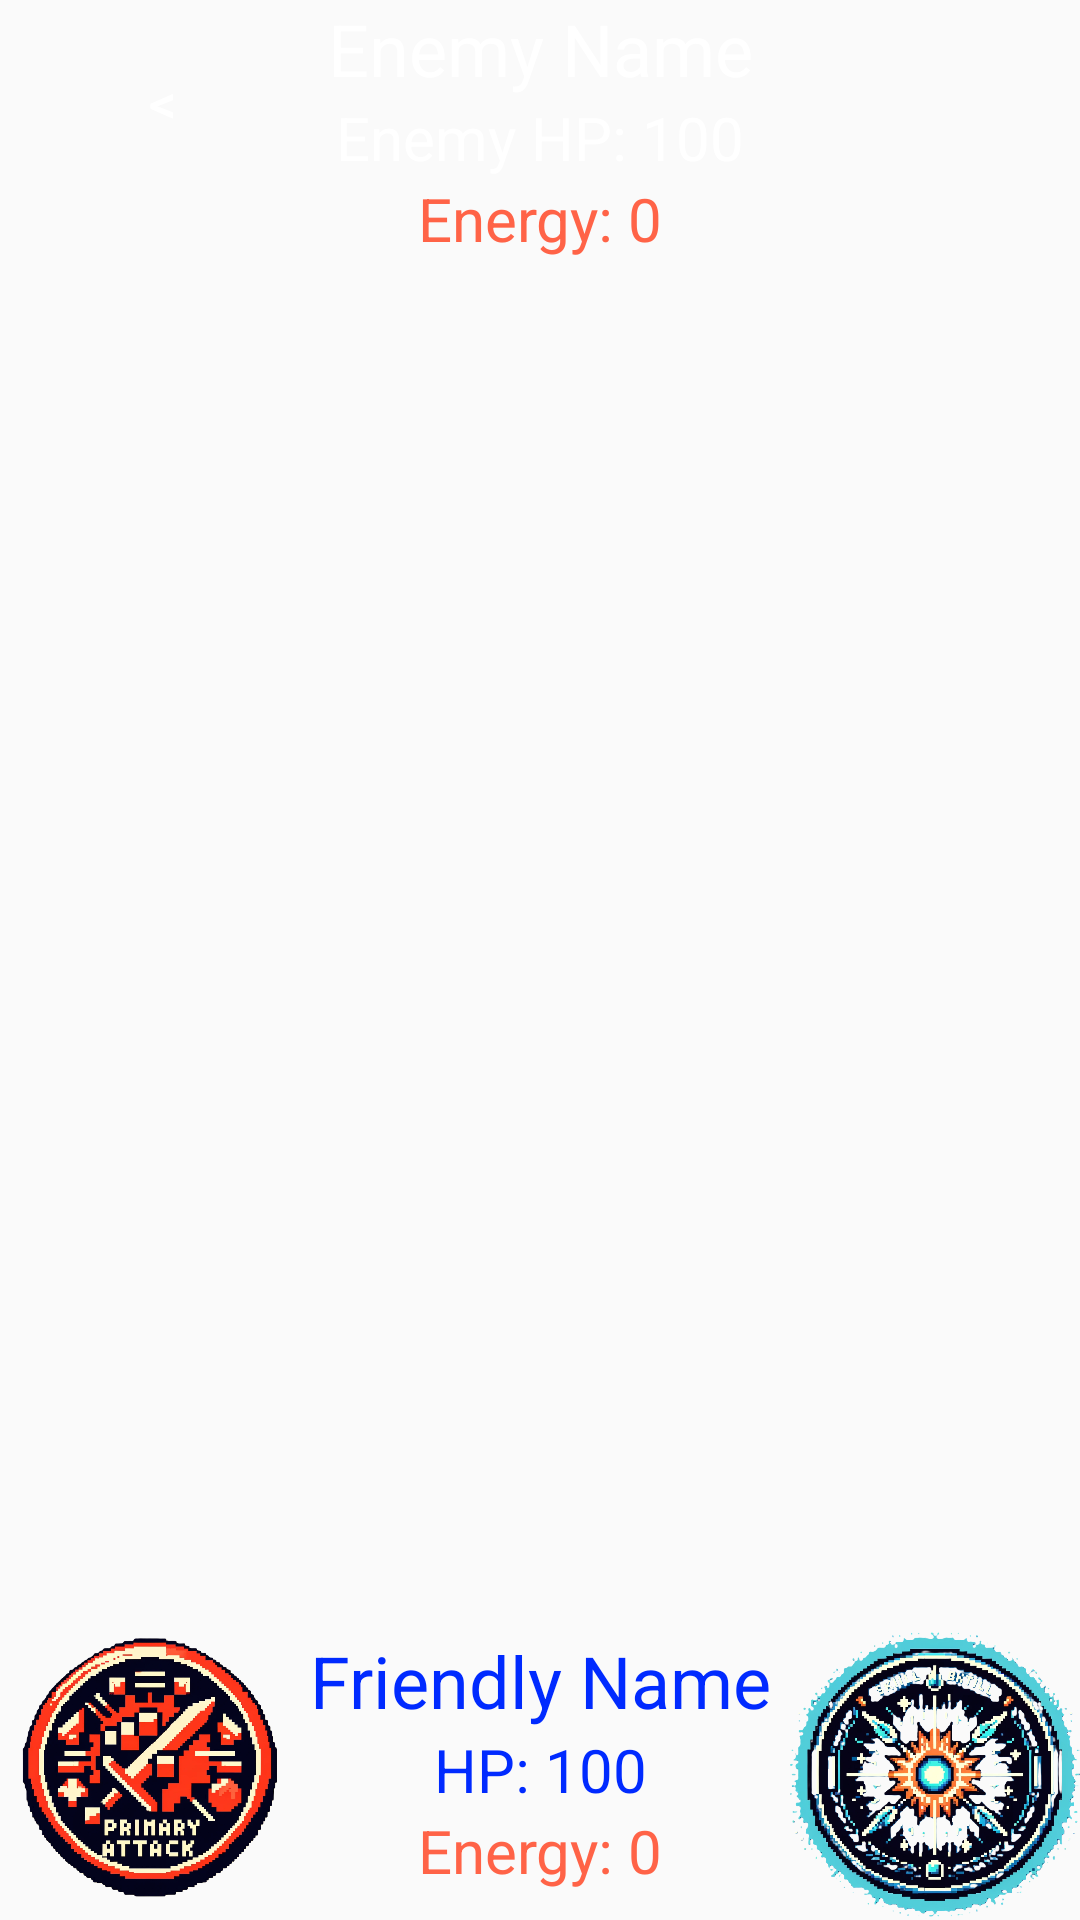

Where icons sit on this 1080×1920 app screen, as [x1=x1, y1=y1, x2=x2, y2=y2]:
skill: [x1=790, y1=1632, x2=1080, y2=1917], [x1=23, y1=1638, x2=277, y2=1897]
